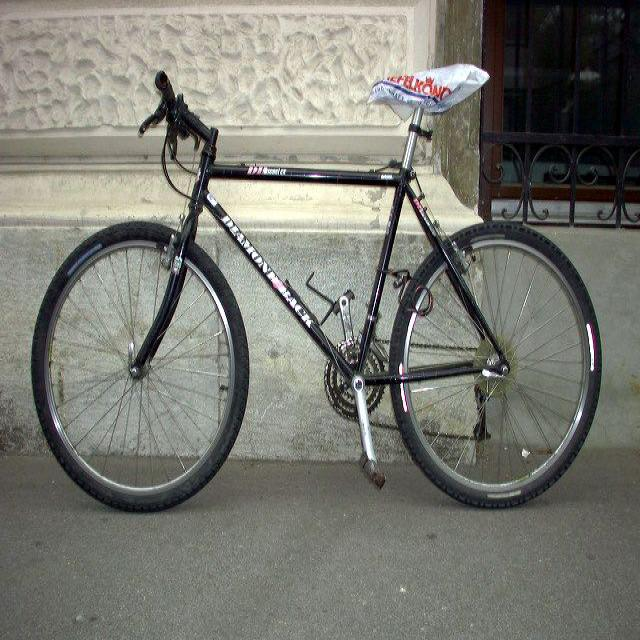bicycle: (30, 64, 602, 513)
